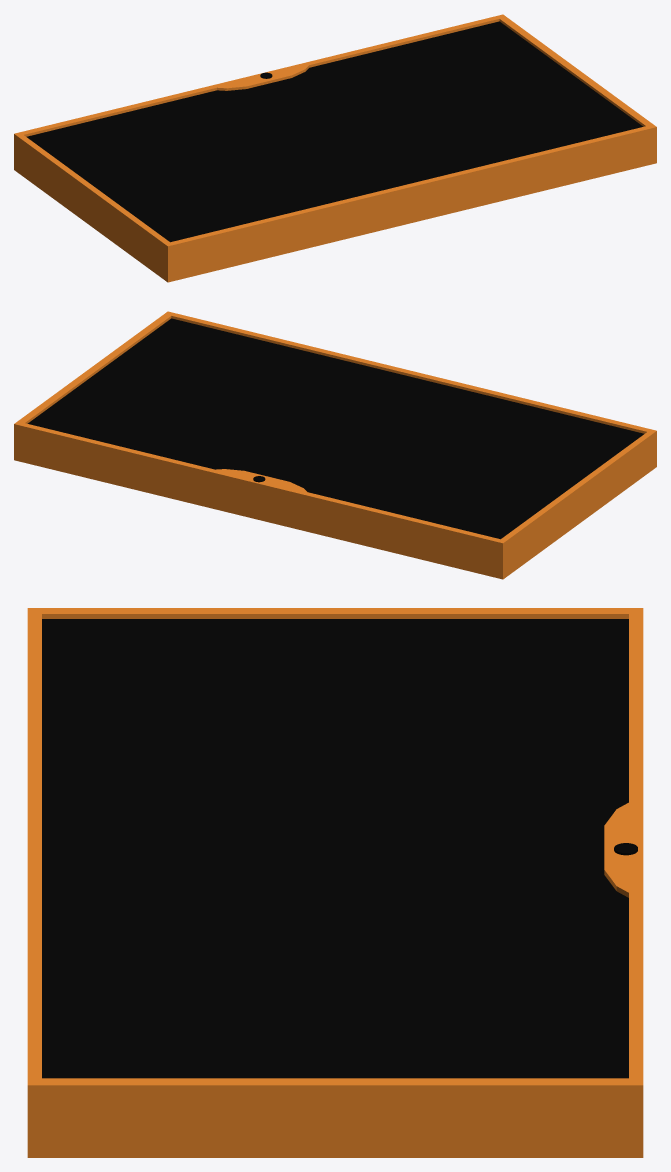
Rendered from Tablet.fbx.
3 views of the same model, one above another, from view 1: azimuth 30°, elevation 25°; view 2: azimuth 150°, elevation 25°; view 3: azimuth 270°, elevation 25° (orthographic). The views are drawn at different scales.
Parts seen in each view (by area): view 1: Tablet; view 2: Tablet; view 3: Tablet.
Boxes of the visible parts, x1,y1,x2,y2 form: Tablet: (14,14,656,282); Tablet: (14,311,656,579); Tablet: (27,608,643,1157).
Size of the model in its own units: 403 by 29.52 by 220.
